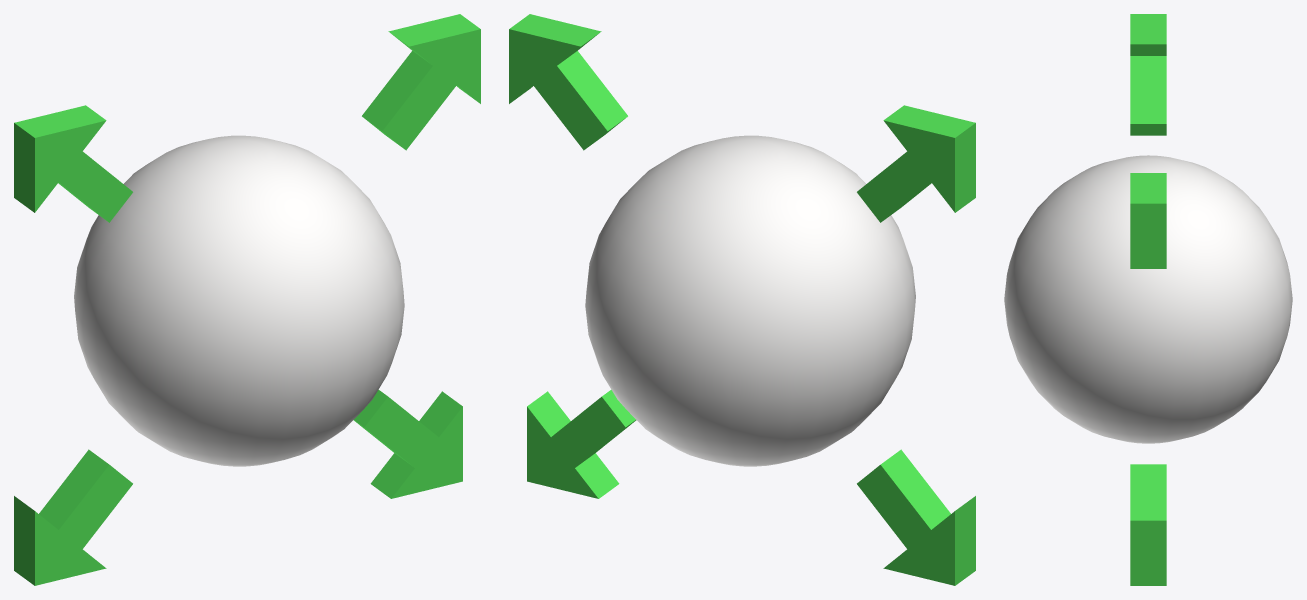
File: ball_size_up_final.fbx
The picture shows the model from 3 angles, left to right: view 1: azimuth 30°, elevation 25°; view 2: azimuth 150°, elevation 25°; view 3: azimuth 270°, elevation 25°; orthographic projection. The views are drawn at different scales.
Visible parts, largest first — view 1: Ball Size Up; view 2: Ball Size Up; view 3: Ball Size Up.
Boxes of the visible parts, left/top/right/bottom form: Ball Size Up: left=14, top=14, right=480, bottom=585; Ball Size Up: left=509, top=14, right=975, bottom=585; Ball Size Up: left=1004, top=14, right=1292, bottom=585.
Bounding box in the file's own units: 124 × 119 × 80.
